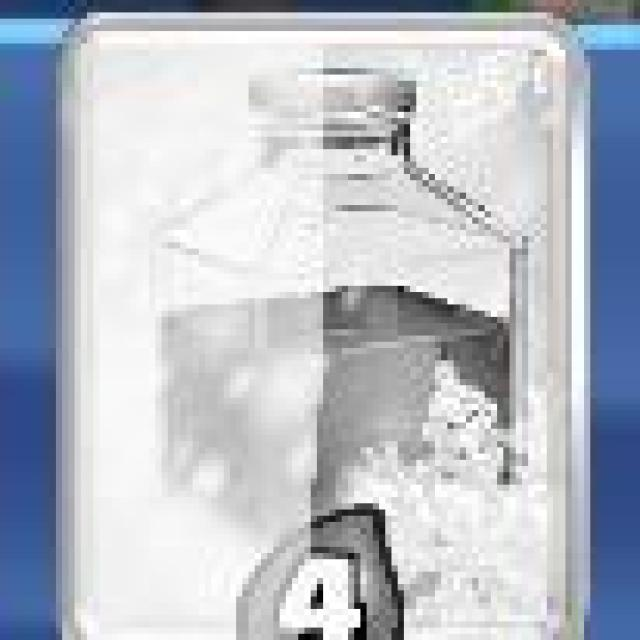Freeze: (61, 19, 581, 640)
